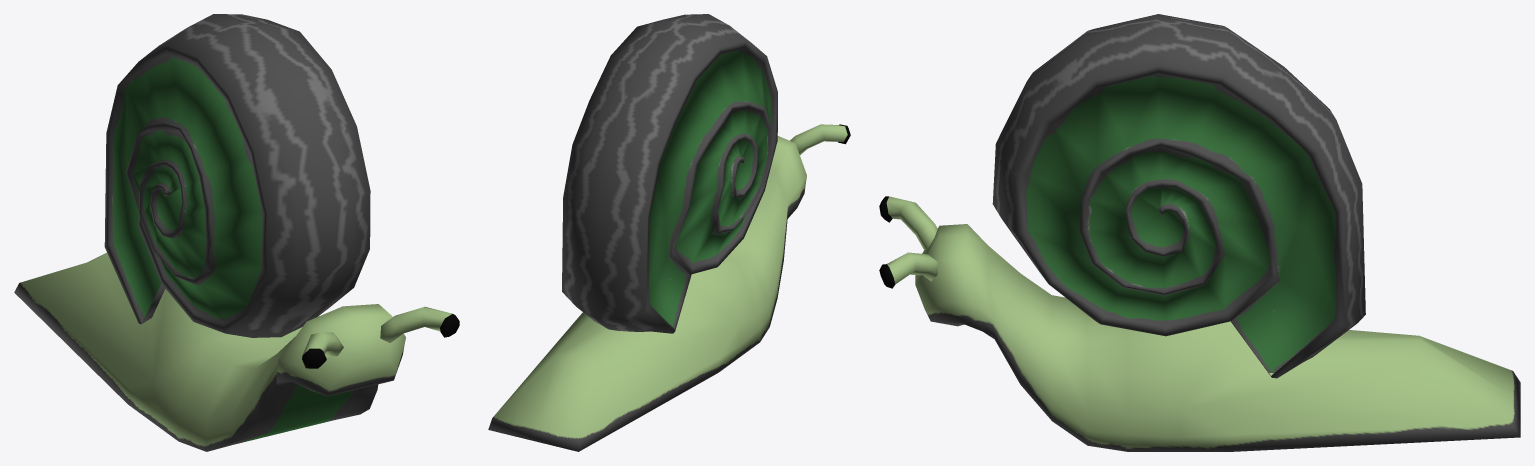
File: Snail.glb
3 renders of one model, left to right at view 1: azimuth 30°, elevation 25°; view 2: azimuth 150°, elevation 25°; view 3: azimuth 270°, elevation 25°, orthographic. The views are drawn at different scales.
Visible parts, largest first — view 1: Snailo, SnailoBod; view 2: Snailo, SnailoBod; view 3: Snailo, SnailoBod.
Part boxes in pixels (x1,y1,x2,y2): Snailo: (104, 14, 370, 337); SnailoBod: (14, 252, 459, 451); Snailo: (562, 14, 777, 333); SnailoBod: (488, 124, 850, 451); Snailo: (992, 14, 1365, 378); SnailoBod: (879, 196, 1520, 451).
Bounding box in the file's own units: 1.35 × 2.91 × 4.35.
Materials: 1 (1 with a texture image).
